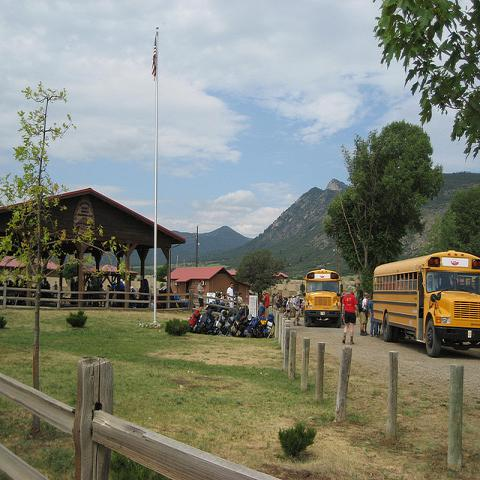bus: (370, 248, 480, 360), (304, 268, 342, 328)
